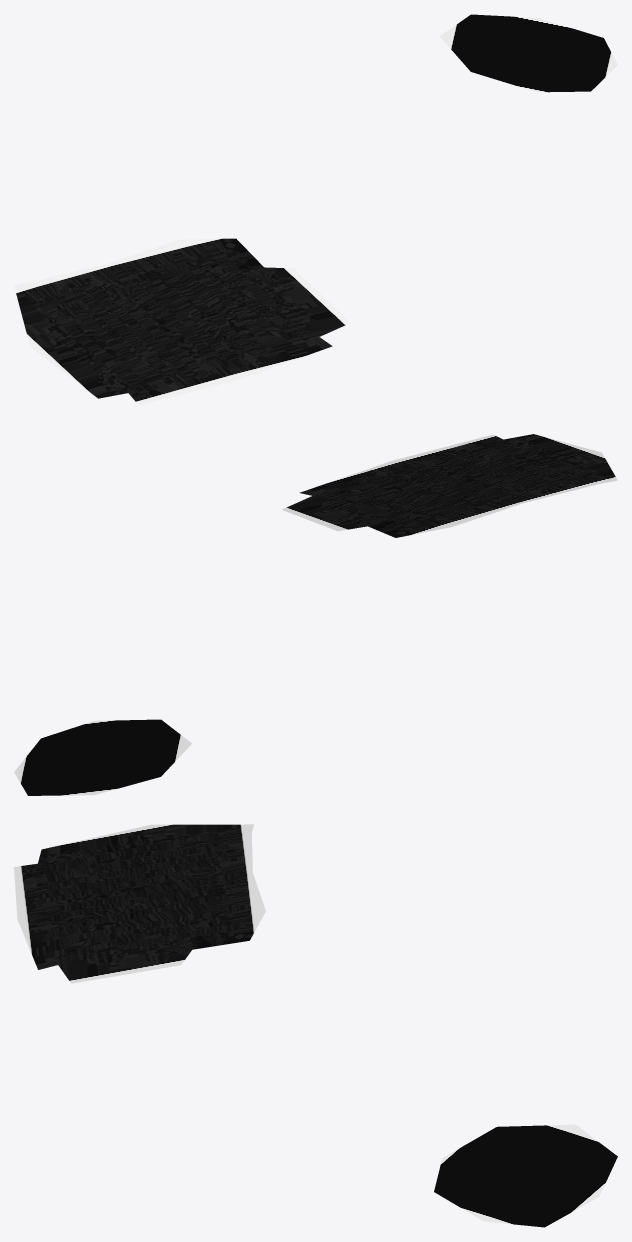
The model's file is art_bridge-piggyBase-decals.fbx.
3 views of the same model, one above another, from view 1: azimuth 30°, elevation 25°; view 2: azimuth 210°, elevation 25°; view 3: azimuth 270°, elevation 25° (orthographic). The views are drawn at different scales.
Visible parts, largest first — view 1: art_bridge-piggyBase-decals; view 2: art_bridge-piggyBase-decals; view 3: art_bridge-piggyBase-decals.
Part boxes in pixels (bbox=[...]): art_bridge-piggyBase-decals: bbox=[14, 14, 617, 405]; art_bridge-piggyBase-decals: bbox=[14, 434, 617, 795]; art_bridge-piggyBase-decals: bbox=[14, 824, 617, 1227].
Size of the model in its own units: 3017 by 140 by 2000.
1 material, 1 textured.
